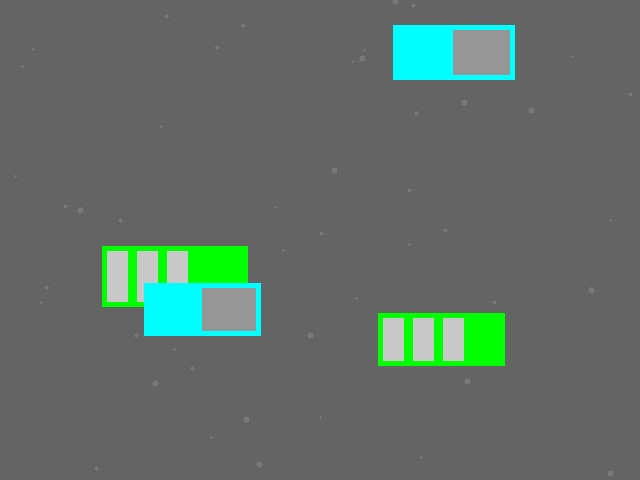bus: (102, 246, 247, 306), (378, 313, 504, 365)
truck: (393, 25, 514, 79), (144, 283, 260, 335)
